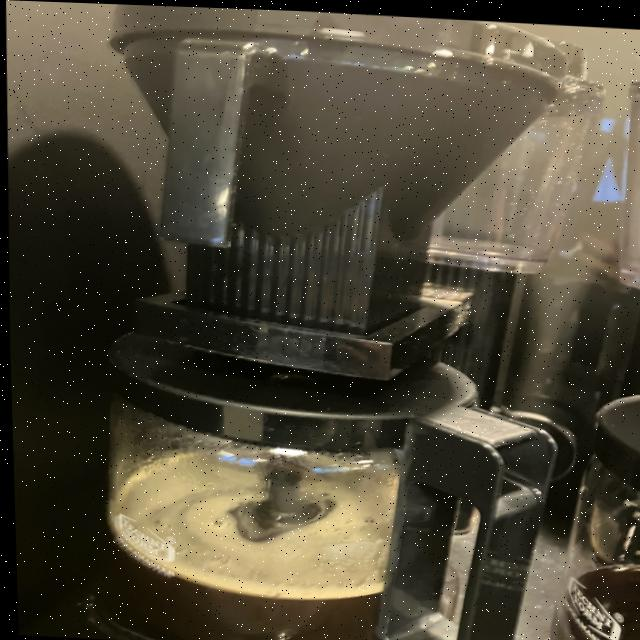coffee: (38, 362, 486, 640), (562, 394, 640, 640)
